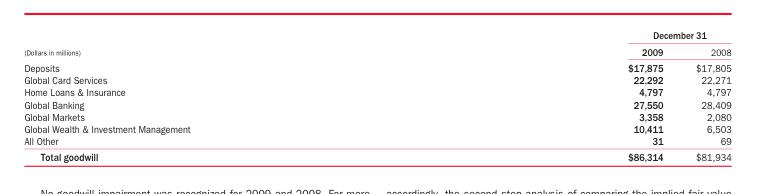table: (23, 29, 730, 163)
table column: (23, 29, 408, 163), (408, 29, 678, 163), (678, 29, 730, 163)
table column header: (23, 29, 730, 59)
table row: (23, 43, 730, 59), (23, 148, 730, 163), (23, 29, 730, 43), (23, 59, 730, 73), (23, 134, 730, 148), (23, 85, 730, 98), (23, 73, 730, 85), (23, 98, 730, 110), (23, 110, 730, 122), (23, 122, 730, 134)
table spanning cell: (23, 29, 408, 59), (408, 29, 730, 43)
